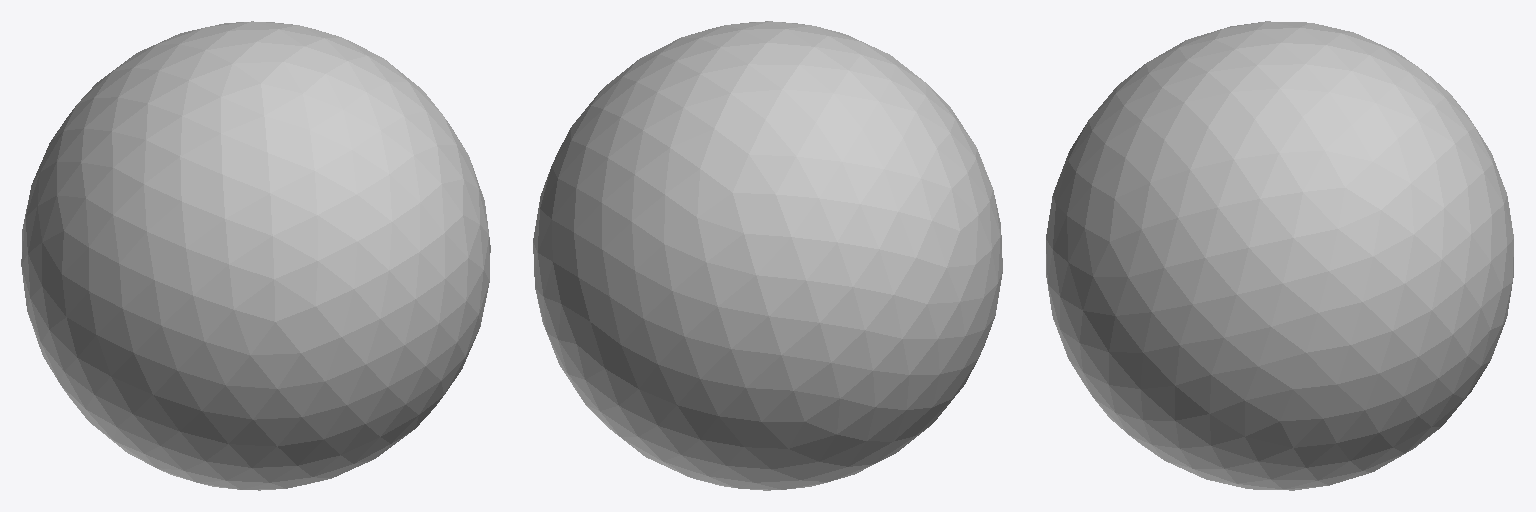
File: Golf ball.obj
3 views of the same model, side by side, from view 1: azimuth 30°, elevation 25°; view 2: azimuth 150°, elevation 25°; view 3: azimuth 270°, elevation 25° (orthographic).
Visible parts, largest first — view 1: GeoSphere001; view 2: GeoSphere001; view 3: GeoSphere001.
Part boxes in pixels (left/top/right/bottom): GeoSphere001: left=21, top=21, right=490, bottom=490; GeoSphere001: left=533, top=21, right=1002, bottom=490; GeoSphere001: left=1046, top=21, right=1513, bottom=490.
Bounding box in the file's own units: 73054 × 73471 × 73070.